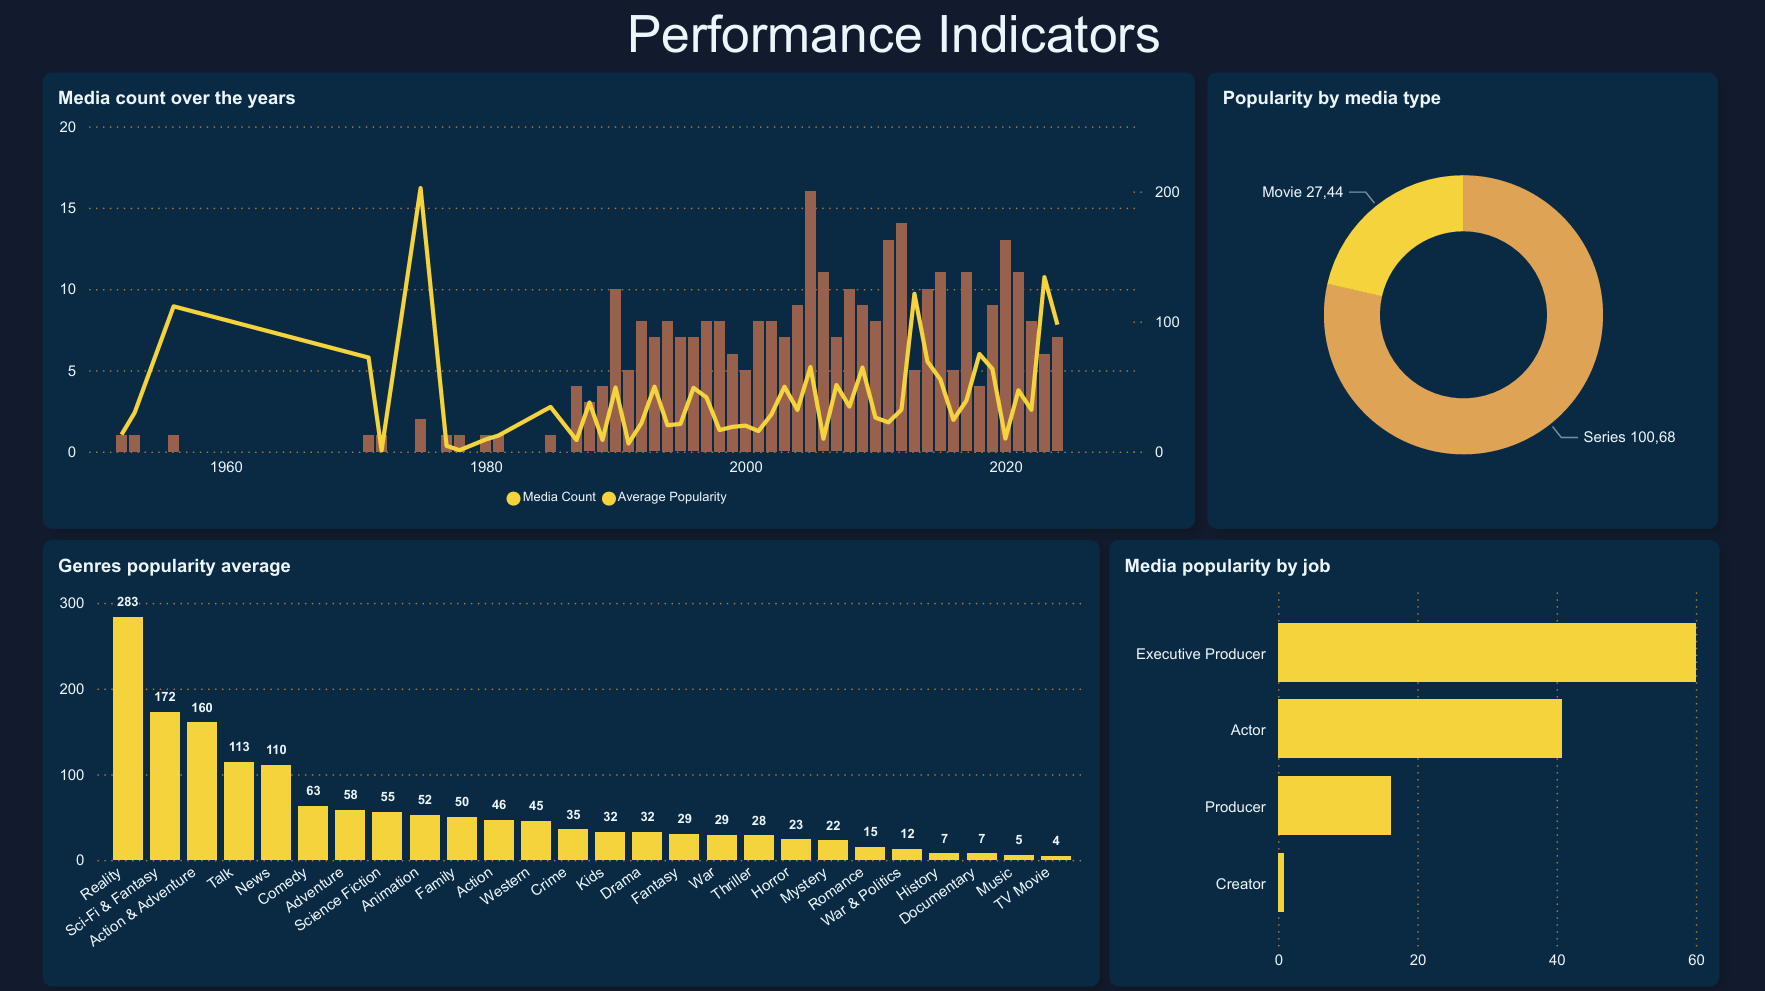

This screenshot's page, from the dashboard's own definition file:
{"tool":"powerbi","page":{"name":"Performance Indicators","canvas":[1280,720],"ordinal":2},"visuals":[{"type":"textbox","box":[141.9,3.5,1012.6,69.2],"z":1000},{"type":"clusteredColumnChart","title":"Genres popularity average","fields":{"Category":["dim_genre parquet.genre_name"],"Y":["Avg(samuel_fact_media_participation parquet.media_popularity)"]},"box":[33,391,763.5,322.9],"z":1001},{"type":"lineStackedColumnComboChart","title":"Media count over the years","fields":{"Category":["dim_date parquet.date.Variation.Hierarquia de datas.Ano"],"Y":["CountNonNull(dim_media parquet.media_id)"],"Y2":["Avg(samuel_fact_media_participation parquet.media_popularity)"]},"box":[33,52.5,832.6,330.7],"z":1002},{"type":"donutChart","title":"Popularity by media type","fields":{"Y":["Avg(samuel_fact_media_participation parquet.media_popularity)"],"Category":["dim_media parquet.media_type"]},"box":[875.4,52.5,368.6,330.7],"z":1003},{"type":"clusteredBarChart","title":"Media popularity by job","fields":{"Y":["Avg(samuel_fact_media_participation parquet.media_popularity)"],"Category":["dim_media parquet.media_job"]},"box":[804.3,391,440.6,322.9],"z":1004}]}

Visuals, with their boxes in screenshot pixels (x1, y1, x2, y2), scaled from the page's 1280x720 canvas onto the 1765x991 screenshot:
textbox: 196,5,1592,100
"Genres popularity average" clusteredColumnChart: 46,538,1098,983
"Media count over the years" lineStackedColumnComboChart: 46,72,1194,527
"Popularity by media type" donutChart: 1207,72,1715,527
"Media popularity by job" clusteredBarChart: 1109,538,1717,983
